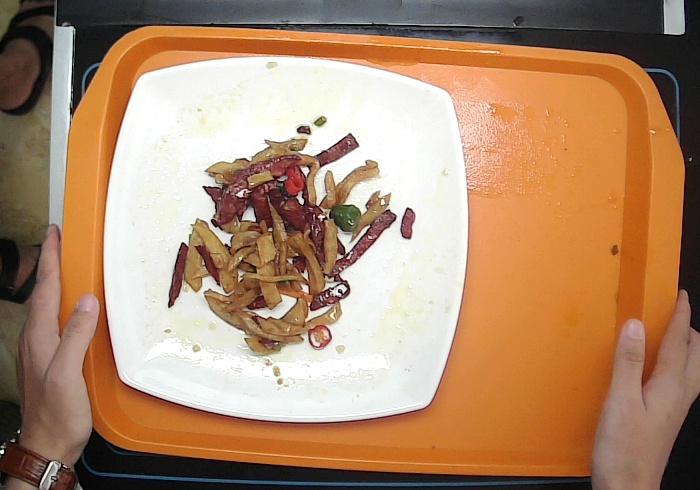ZNLD-Bai_Fang_Pan: (97, 54, 473, 426)
